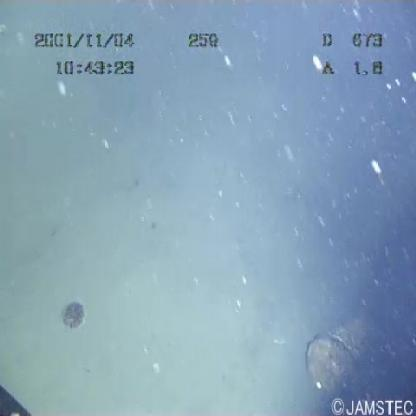Rov: (1, 380, 50, 416)
Rác: (278, 311, 393, 395)
